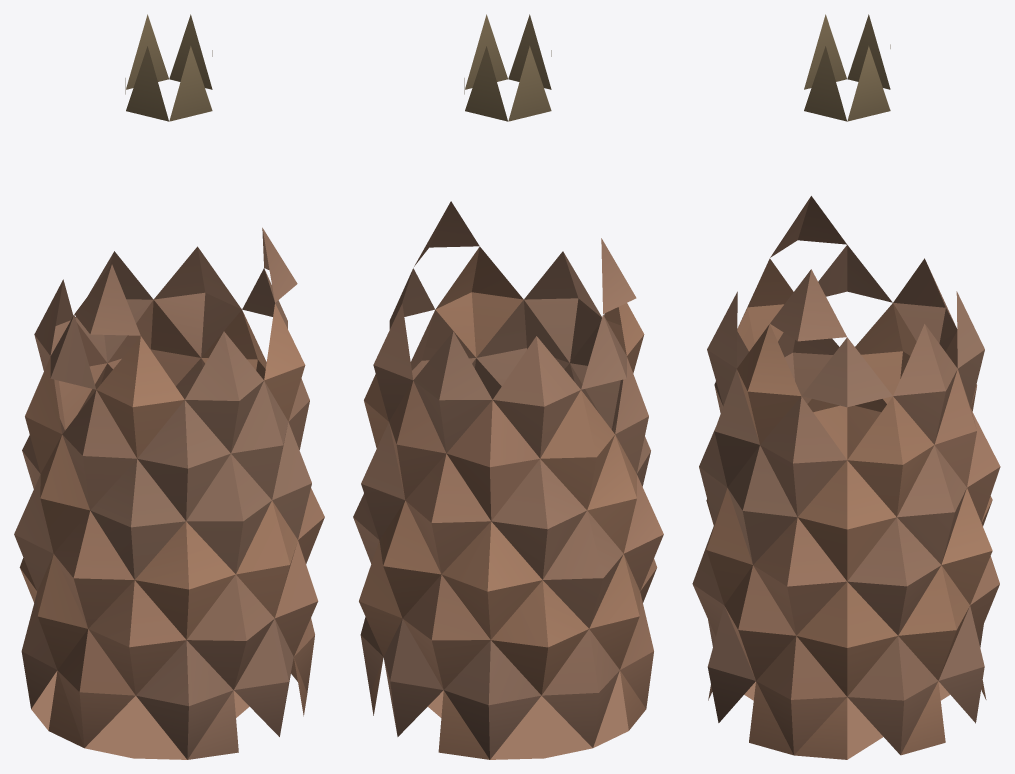
File: cycad.lod.glb
The picture shows the model from 3 angles, left to right: view 1: azimuth 30°, elevation 25°; view 2: azimuth 150°, elevation 25°; view 3: azimuth 270°, elevation 25°; orthographic projection.
Parts seen in each view (by area): view 1: cycad.001; view 2: cycad.001; view 3: cycad.001.
Part boxes in pixels (left/top/right/bottom): cycad.001: left=14, top=14, right=324, bottom=759; cycad.001: left=353, top=14, right=663, bottom=759; cycad.001: left=692, top=14, right=1000, bottom=759.
Size of the model in its own units: 1.42 by 3.46 by 1.44.
